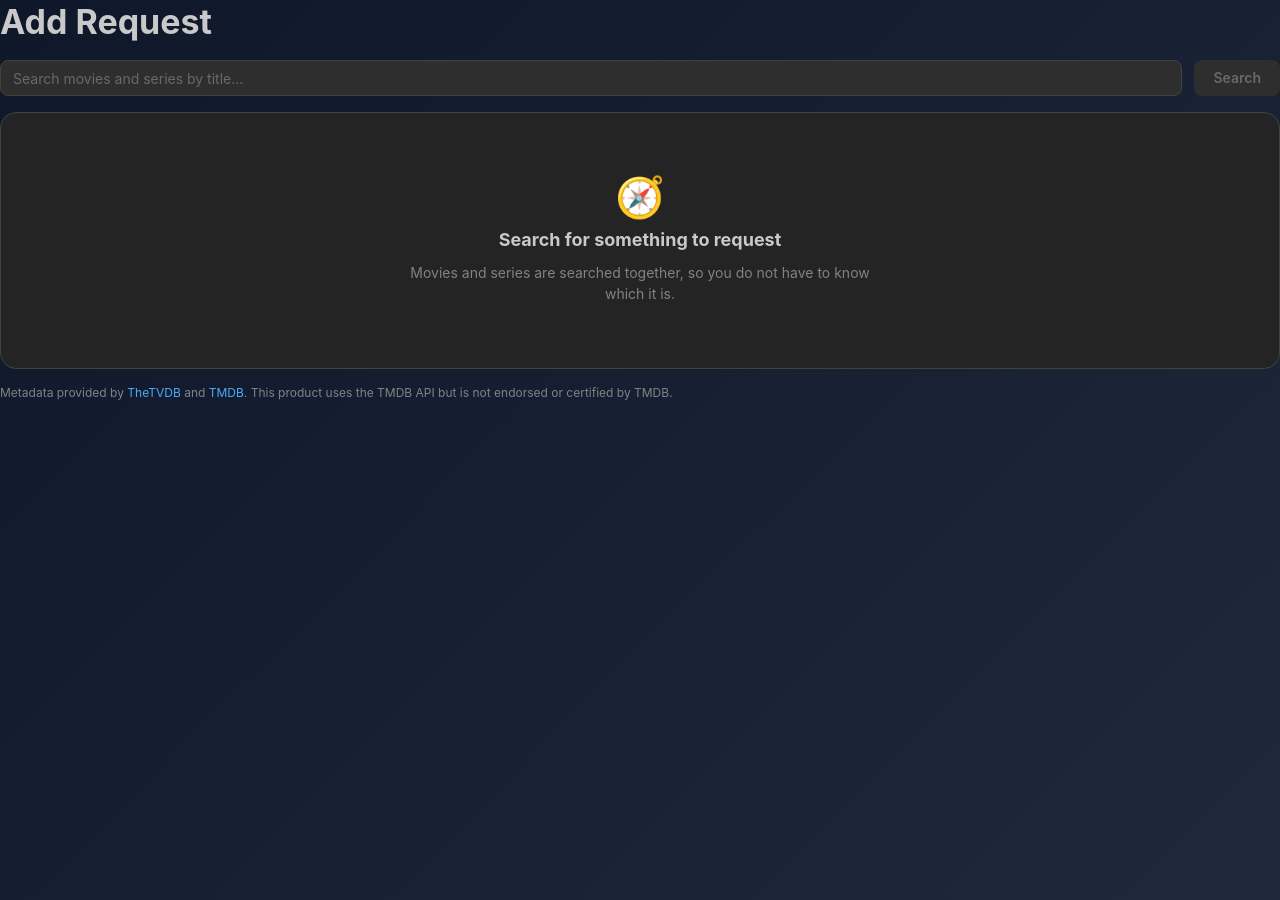
Scenario: AddRequestPage on a phone › drops the page subtitle and the card synopsis
Type "thrones" into the search field.
click(591, 78); type("thrones")  # box x1=0 y1=60 x2=1182 y2=96
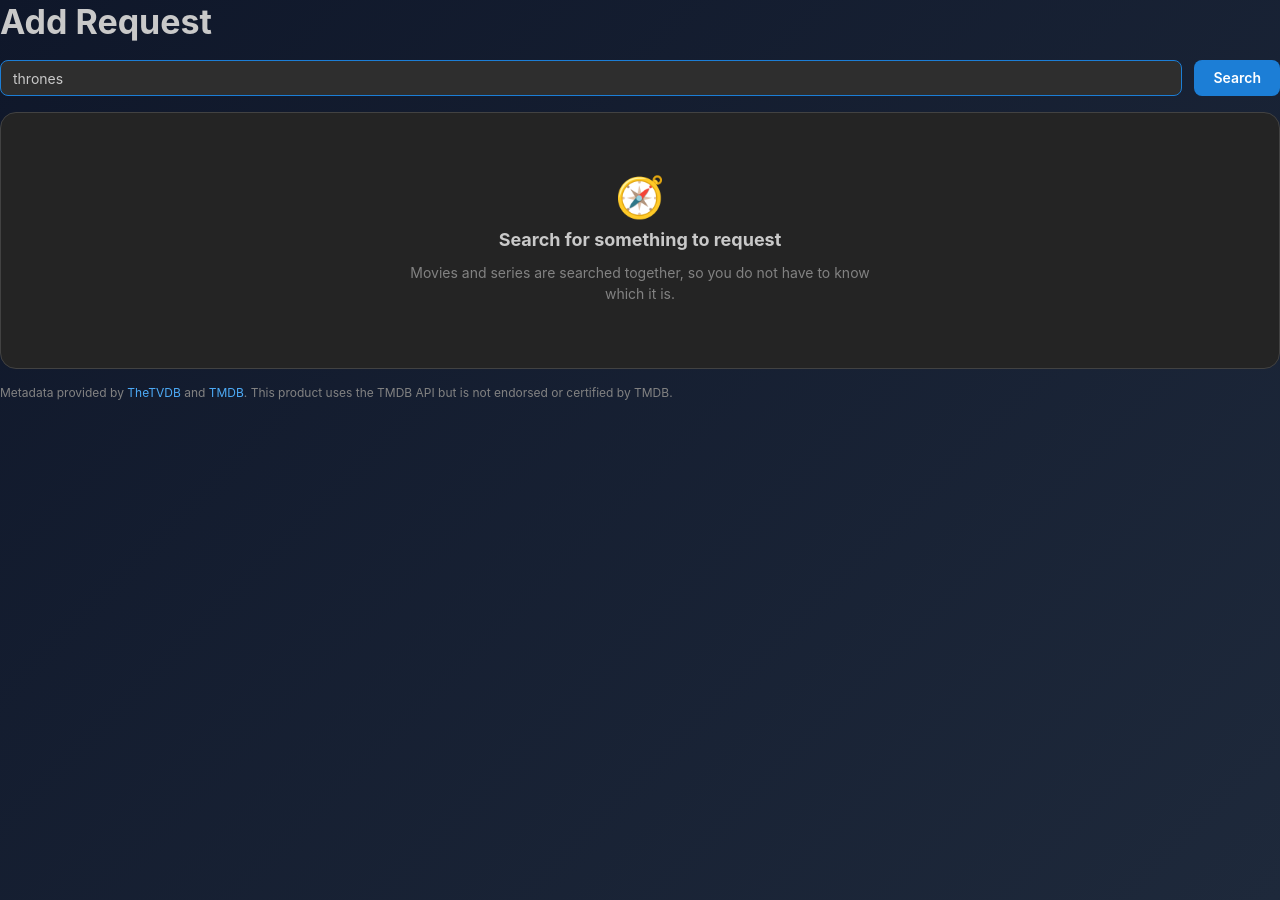
Click the button "Search".
click(1237, 78)  # box x1=1194 y1=60 x2=1279 y2=96
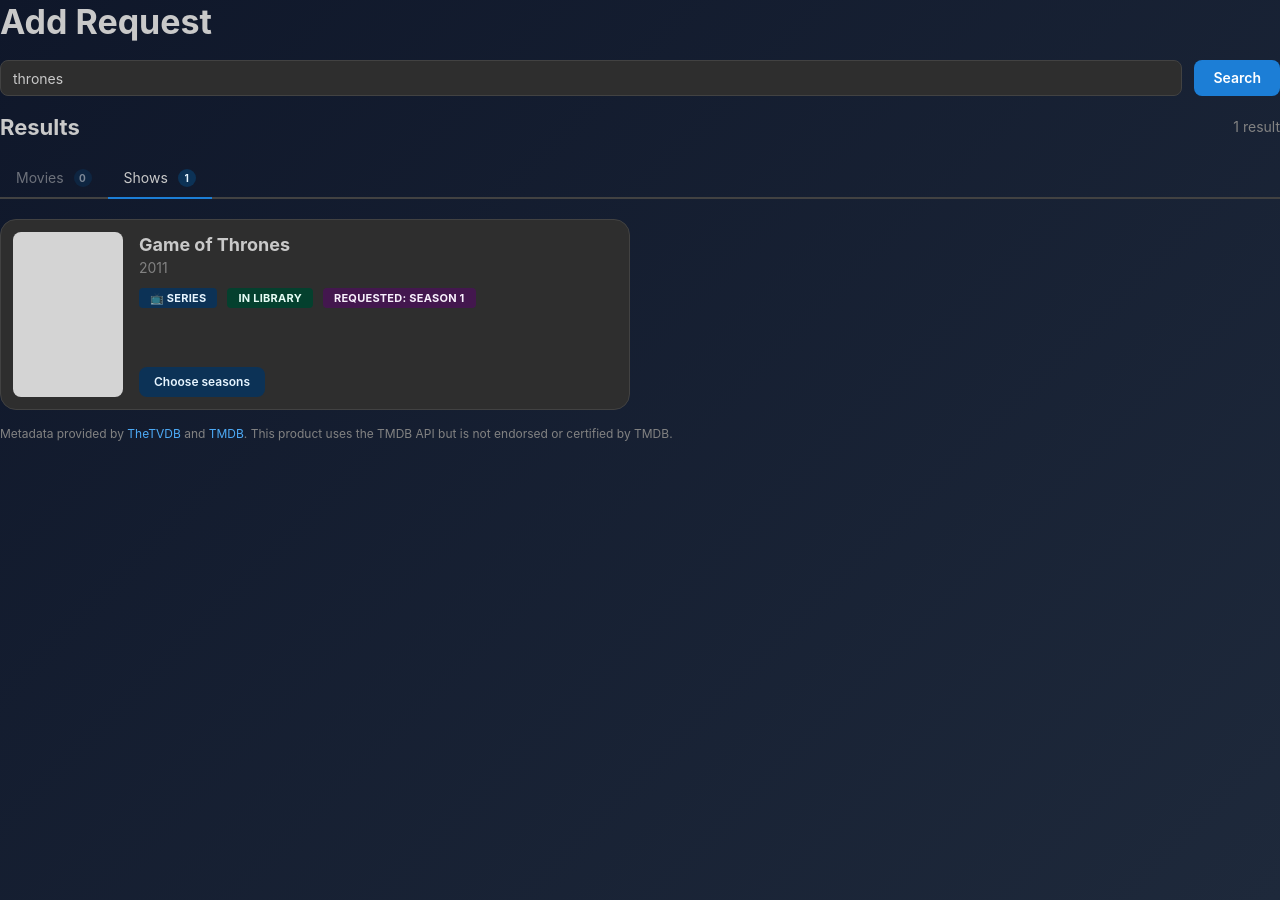
Expected: the heading "Game of Thrones" is shown, x1=139 y1=234 x2=290 y2=255
